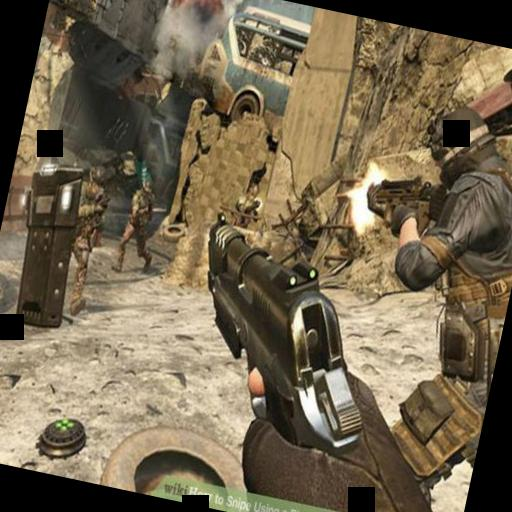Handgun: (162, 208, 402, 466)
